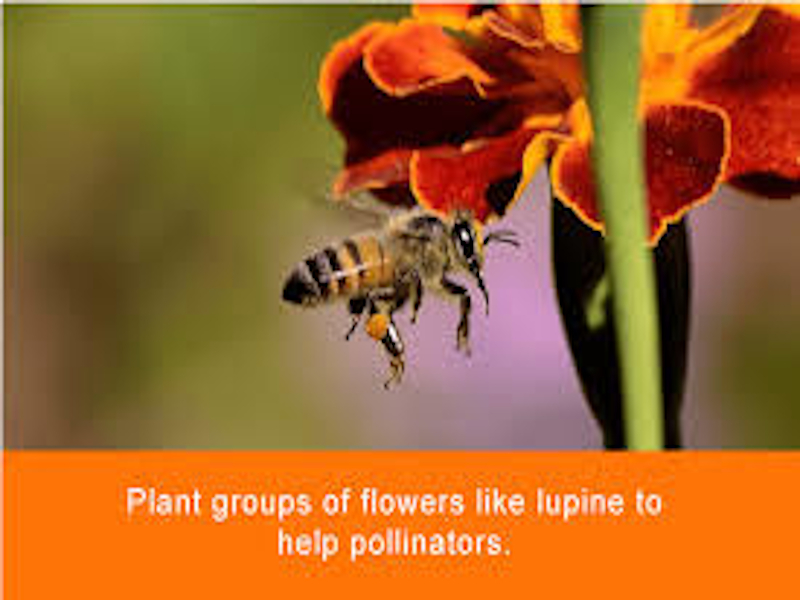abeja: (270, 190, 529, 399)
